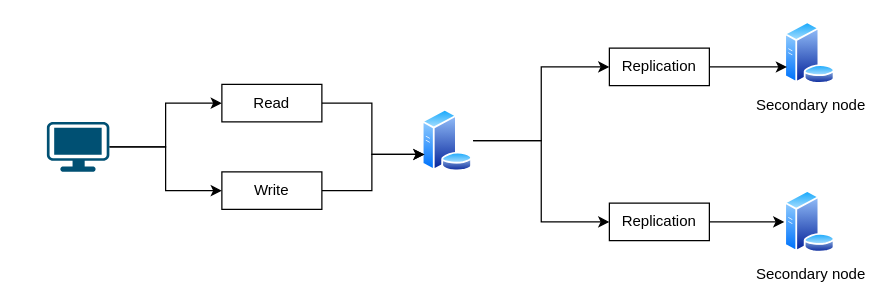
This 886x304 diagram has some shape labels left out. The shapes that lost their labels are listed below. From the top down, each one's box as (x1, y1, x2, y2) in pixels, then its label:
(46, 121, 109, 171): Client application
(421, 109, 472, 171): Primary node
